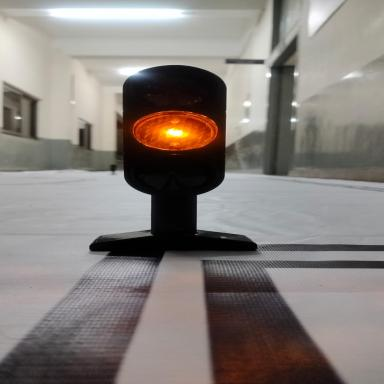yellow: (109, 60, 266, 263)
